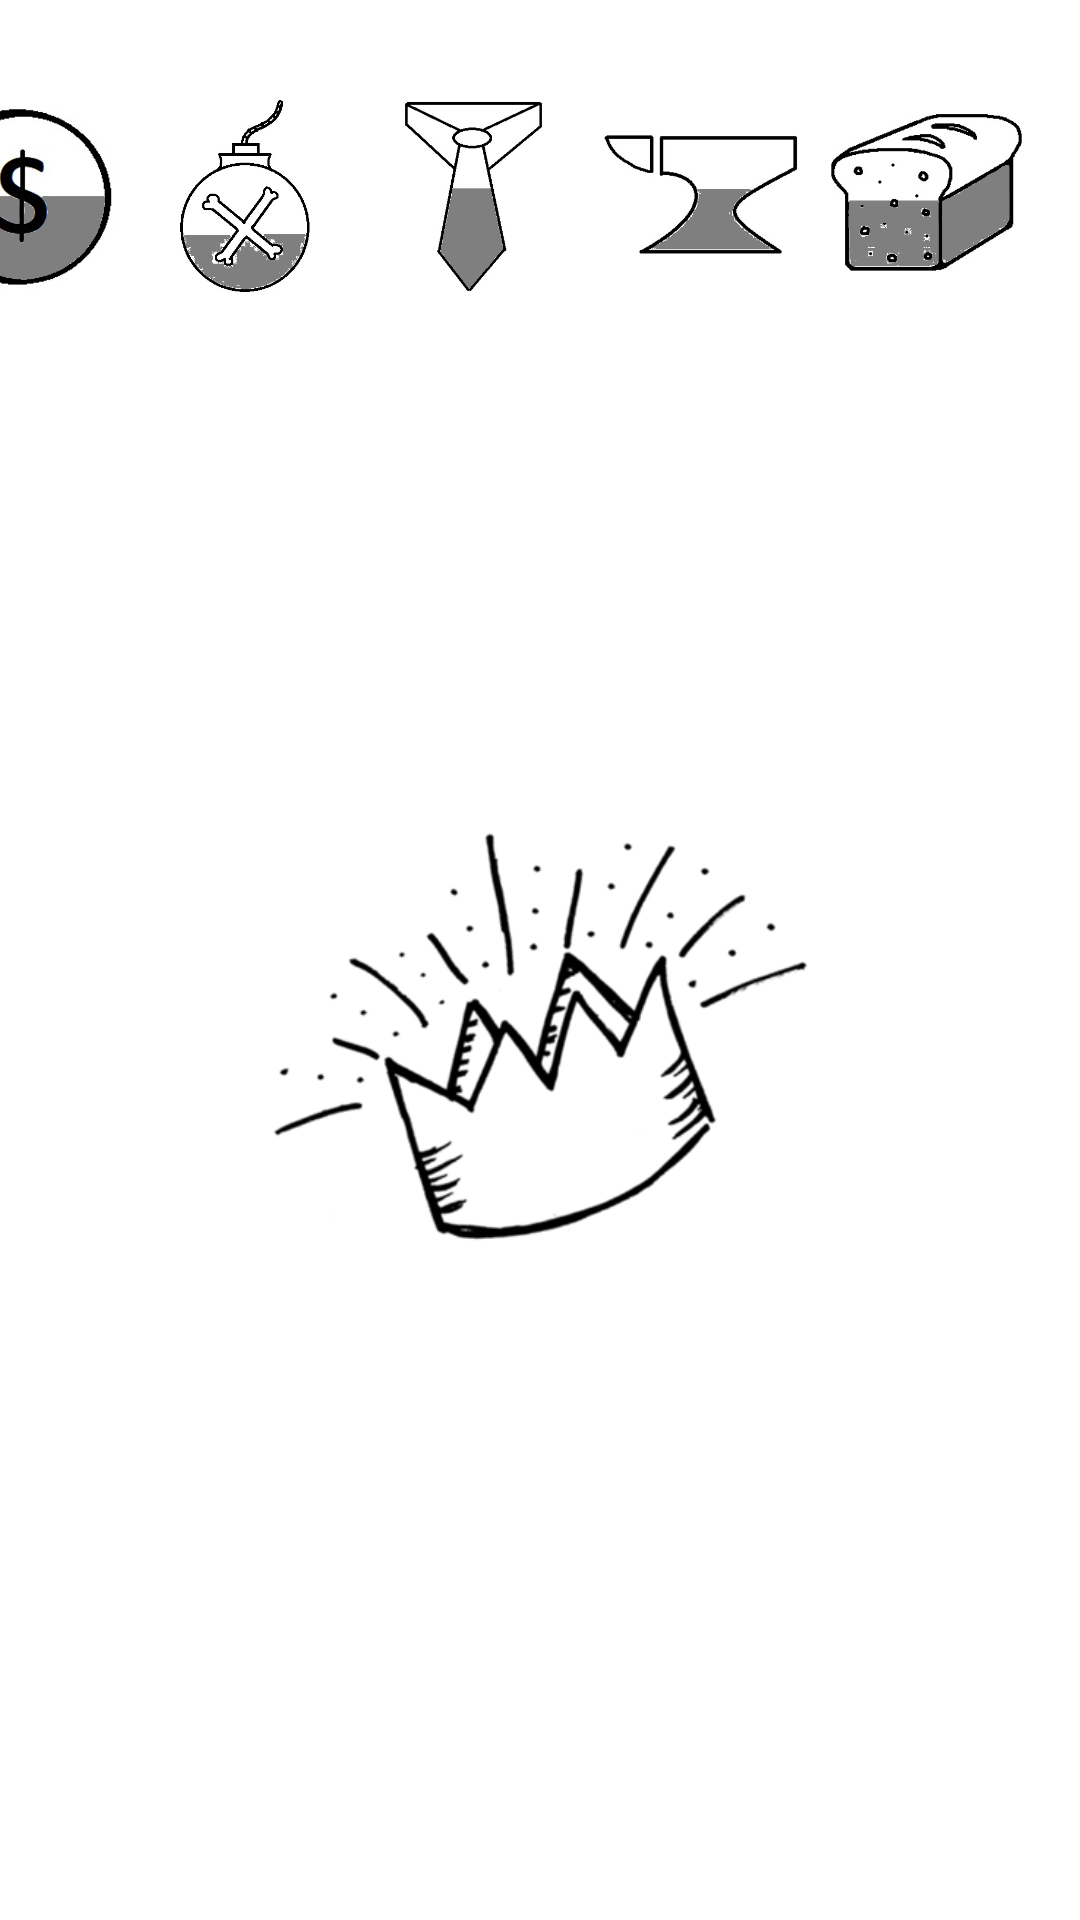

Named icons in this screenshot (1080px x 1920px) and their bounding boxes, (x1, y1, x2, y2):
anvil third: (604, 135, 797, 254)
bomb third: (180, 100, 310, 292)
bread third: (831, 114, 1022, 271)
tie third: (405, 102, 542, 291)
